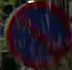No Stopping: (5, 0, 70, 69)
